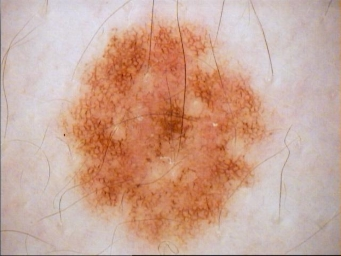nevus: (68, 27, 264, 242)
